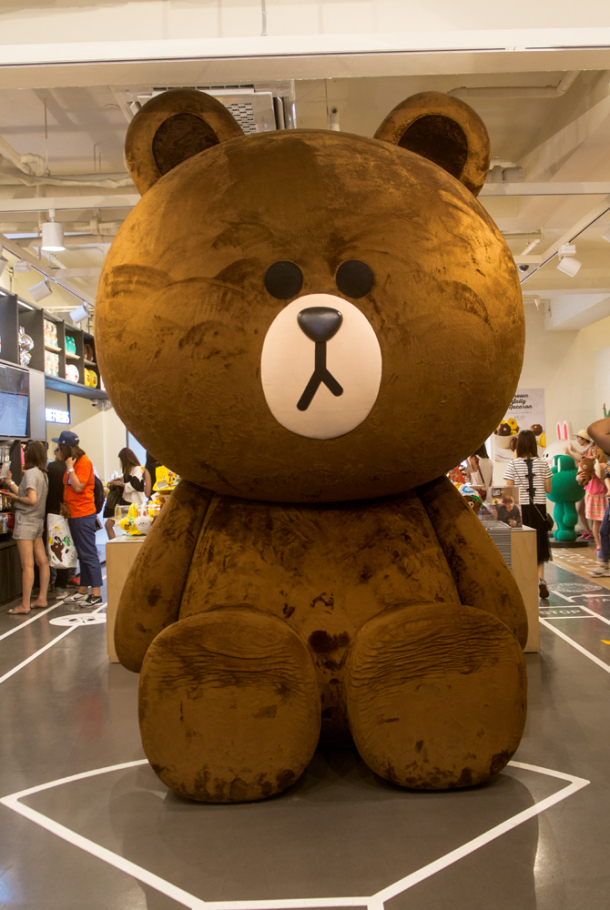line_brown: (54, 64, 567, 524)
